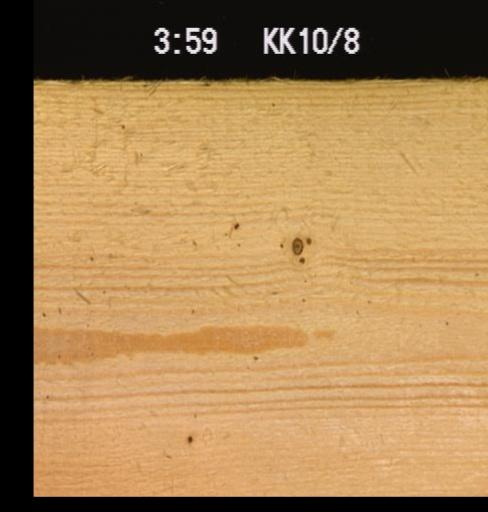dry_knot: (288, 234, 303, 254)
small_knot: (183, 432, 193, 444), (294, 256, 308, 264), (230, 219, 238, 231)
